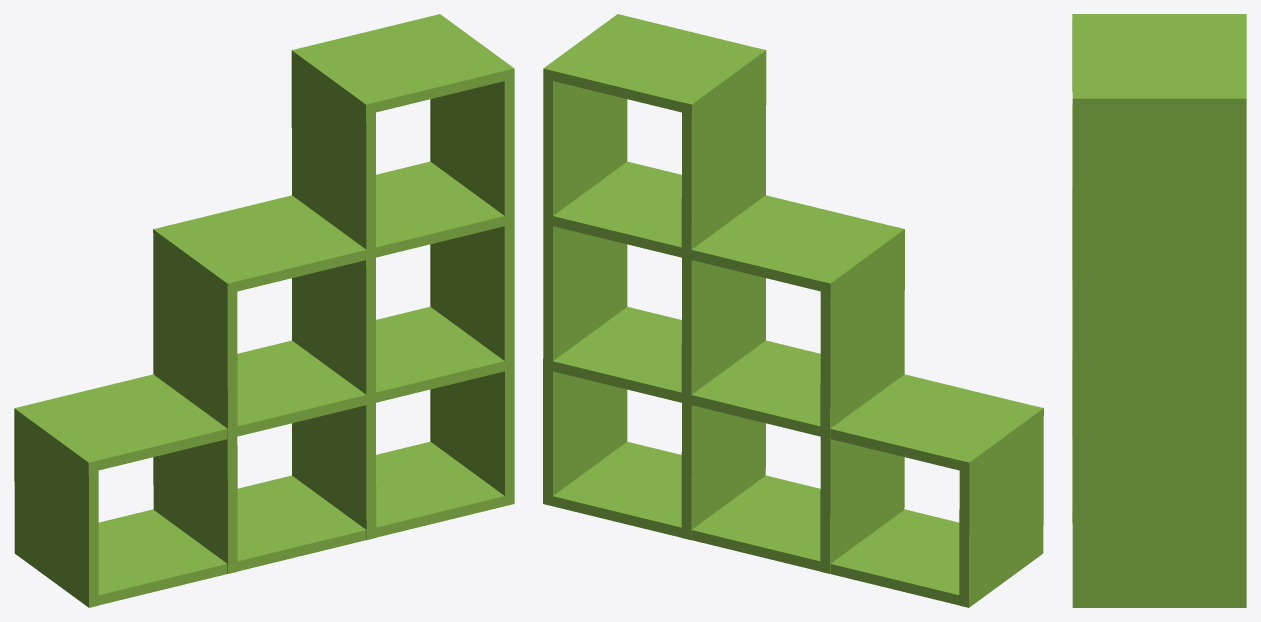
File: scene_gIt81cwlAf.glb
3 views of the same model, side by side, from view 1: azimuth 30°, elevation 25°; view 2: azimuth 150°, elevation 25°; view 3: azimuth 270°, elevation 25° (orthographic). The views are drawn at different scales.
Visible parts, largest first — view 1: Node; view 2: Node; view 3: Node.
Part boxes in pixels (bbox=[...]): Node: bbox=[14, 14, 514, 607]; Node: bbox=[543, 14, 1043, 607]; Node: bbox=[1072, 14, 1246, 607].
Size of the model in its own units: 1.75 by 1.71 by 0.5311.
